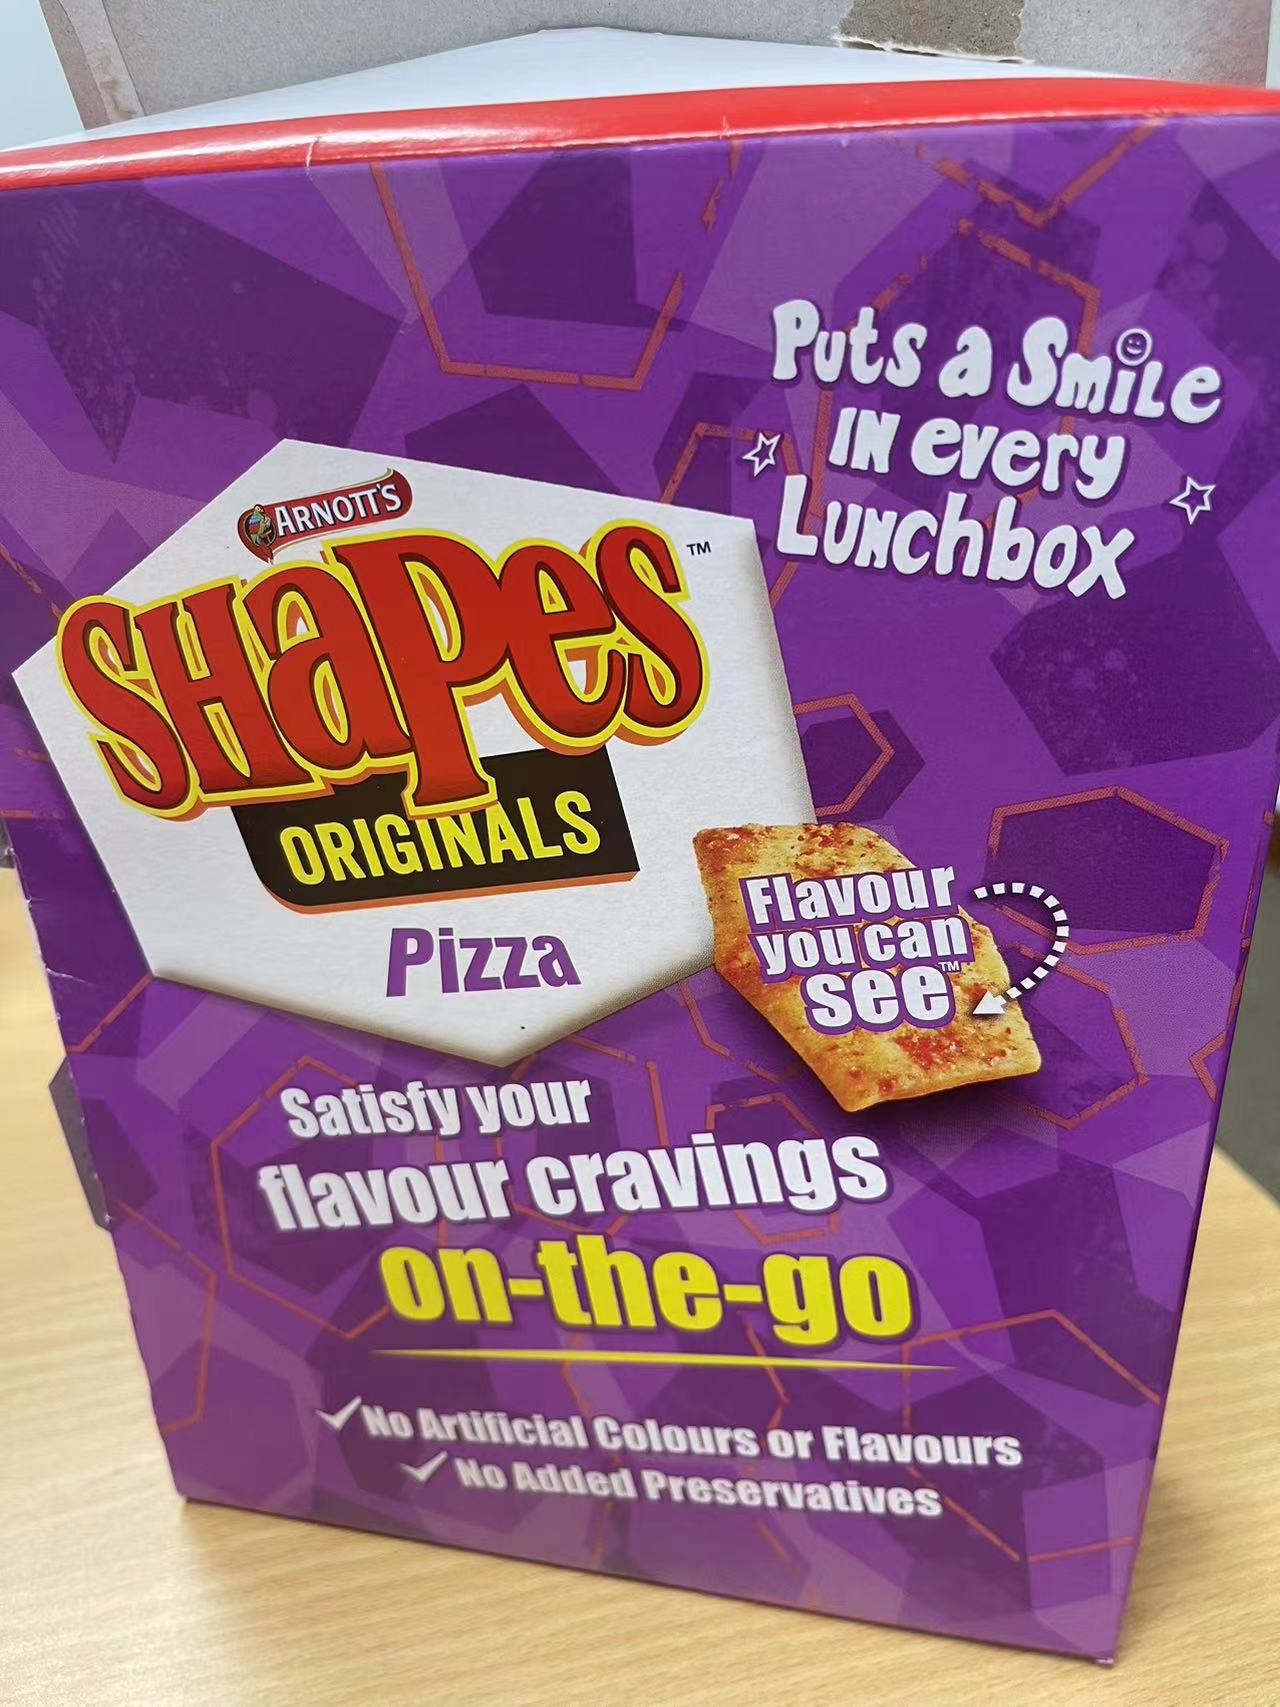Crackers_200-299g_NonHalal_NonHealthy: (4, 147, 1280, 1651)
